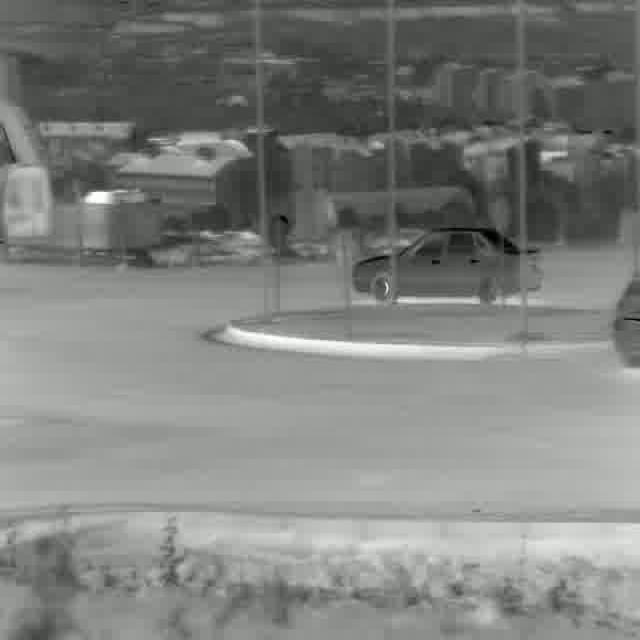Car: (350, 229, 542, 307), (614, 274, 640, 363)
